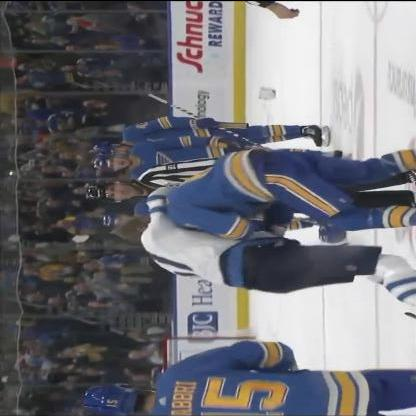non-Voilence: (78, 338, 416, 414)
voilence: (117, 148, 372, 293)
